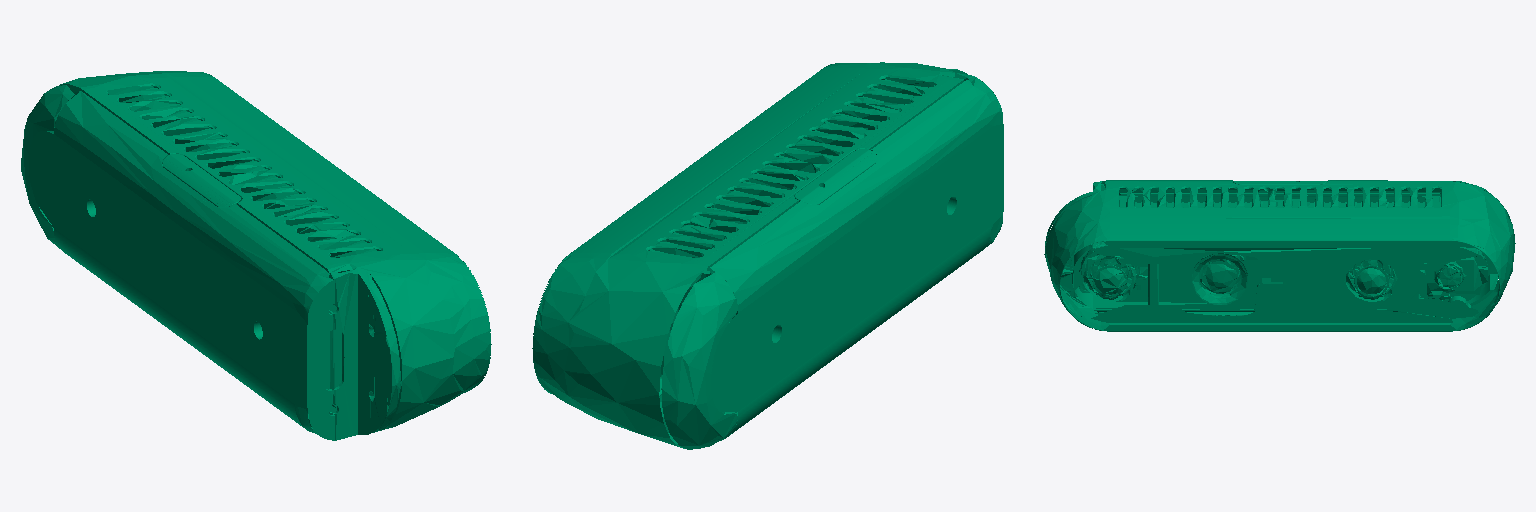
robot.urdf — realsense_d435_standalone:
<?xml version='1.0' encoding='utf-8'?>
<robot name="realsense_d435_standalone">
  <mujoco>
    <compiler discardvisual="false" fusestatic="false" />
  </mujoco>
  <material name="aluminum">
    <color rgba="0.5 0.5 0.5 1" />
  </material>
  <material name="plastic">
    <color rgba="0.1 0.1 0.1 1" />
  </material>
  <link name="realsense_d435_mount" />
  
  <joint name="camera_joint" type="fixed">
    <origin rpy="0 0 0" xyz="0 0 0" />
    <parent link="realsense_d435_mount" />
    <child link="camera_bottom_screw_frame" />
  </joint>
  <link name="camera_bottom_screw_frame" />
  <joint name="camera_link_joint" type="fixed">
    <origin rpy="0 0 0" xyz="0.010600000000000002 0.0175 0.0125" />
    <parent link="camera_bottom_screw_frame" />
    <child link="camera_link" />
  </joint>
  <link name="camera_link">
    <visual>
      
      <origin rpy="1.5707963267948966 0 1.5707963267948966" xyz="0.0043 -0.0175 0" />
      <geometry>
        <mesh filename="../meshes/mujoco/d435.stl" />
      </geometry>
    </visual>
    <collision>
      <origin rpy="0 0 0" xyz="0 -0.0175 0" />
      <geometry>
        <box size="0.02505 0.09 0.025" />
      </geometry>
    </collision>
    <inertial>
      
      <mass value="0.072" />
      <origin xyz="0 0 0" />
      <inertia ixx="0.003881243" ixy="0.0" ixz="0.0" iyy="0.000498940" iyz="0.0" izz="0.003879257" />
    </inertial>
  </link>
  
  <joint name="camera_depth_joint" type="fixed">
    <origin rpy="0 0 0" xyz="0 0 0" />
    <parent link="camera_link" />
    <child link="camera_depth_frame" />
  </joint>
  <link name="camera_depth_frame" />
  <joint name="camera_depth_optical_joint" type="fixed">
    <origin rpy="-1.5707963267948966 0 -1.5707963267948966" xyz="0 0 0" />
    <parent link="camera_depth_frame" />
    <child link="camera_depth_optical_frame" />
  </joint>
  <link name="camera_depth_optical_frame" />
  
  <joint name="camera_infra1_joint" type="fixed">
    <origin rpy="0 0 0" xyz="0 0.0 0" />
    <parent link="camera_link" />
    <child link="camera_infra1_frame" />
  </joint>
  <link name="camera_infra1_frame" />
  <joint name="camera_infra1_optical_joint" type="fixed">
    <origin rpy="-1.5707963267948966 0 -1.5707963267948966" xyz="0 0 0" />
    <parent link="camera_infra1_frame" />
    <child link="camera_infra1_optical_frame" />
  </joint>
  <link name="camera_infra1_optical_frame" />
  
  <joint name="camera_infra2_joint" type="fixed">
    <origin rpy="0 0 0" xyz="0 -0.05 0" />
    <parent link="camera_link" />
    <child link="camera_infra2_frame" />
  </joint>
  <link name="camera_infra2_frame" />
  <joint name="camera_infra2_optical_joint" type="fixed">
    <origin rpy="-1.5707963267948966 0 -1.5707963267948966" xyz="0 0 0" />
    <parent link="camera_infra2_frame" />
    <child link="camera_infra2_optical_frame" />
  </joint>
  <link name="camera_infra2_optical_frame" />
  
  <joint name="camera_color_joint" type="fixed">
    <origin rpy="0 0 0" xyz="0 0.015 0" />
    <parent link="camera_link" />
    <child link="camera_color_frame" />
  </joint>
  <link name="camera_color_frame" />
  <joint name="camera_color_optical_joint" type="fixed">
    <origin rpy="-1.5707963267948966 0 -1.5707963267948966" xyz="0 0 0" />
    <parent link="camera_color_frame" />
    <child link="camera_color_optical_frame" />
  </joint>
  <link name="camera_color_optical_frame" />
</robot>

--- What the picture shows (computed from the rendered views, not written in the file) ---
The picture shows the robot from 3 angles, left to right: view 1: azimuth 30°, elevation 25°; view 2: azimuth 150°, elevation 25°; view 3: azimuth 270°, elevation 25°; orthographic projection.
Model realsense_d435_standalone with 11 links and 10 joints (10 fixed), rooted at realsense_d435_mount, posed all joints at 0.
Visible links, largest first — view 1: camera_link; view 2: camera_link; view 3: camera_link.
Link boxes in pixels (<box>): camera_link: <box>21,71,491,440</box>; camera_link: <box>532,62,1003,449</box>; camera_link: <box>1044,180,1515,331</box>.
Bounding box of the posed robot: 0.0251 × 0.09 × 0.0252 m (x, y, z).
1 mesh visuals loaded from 1 distinct referenced files (1 binary STL).
